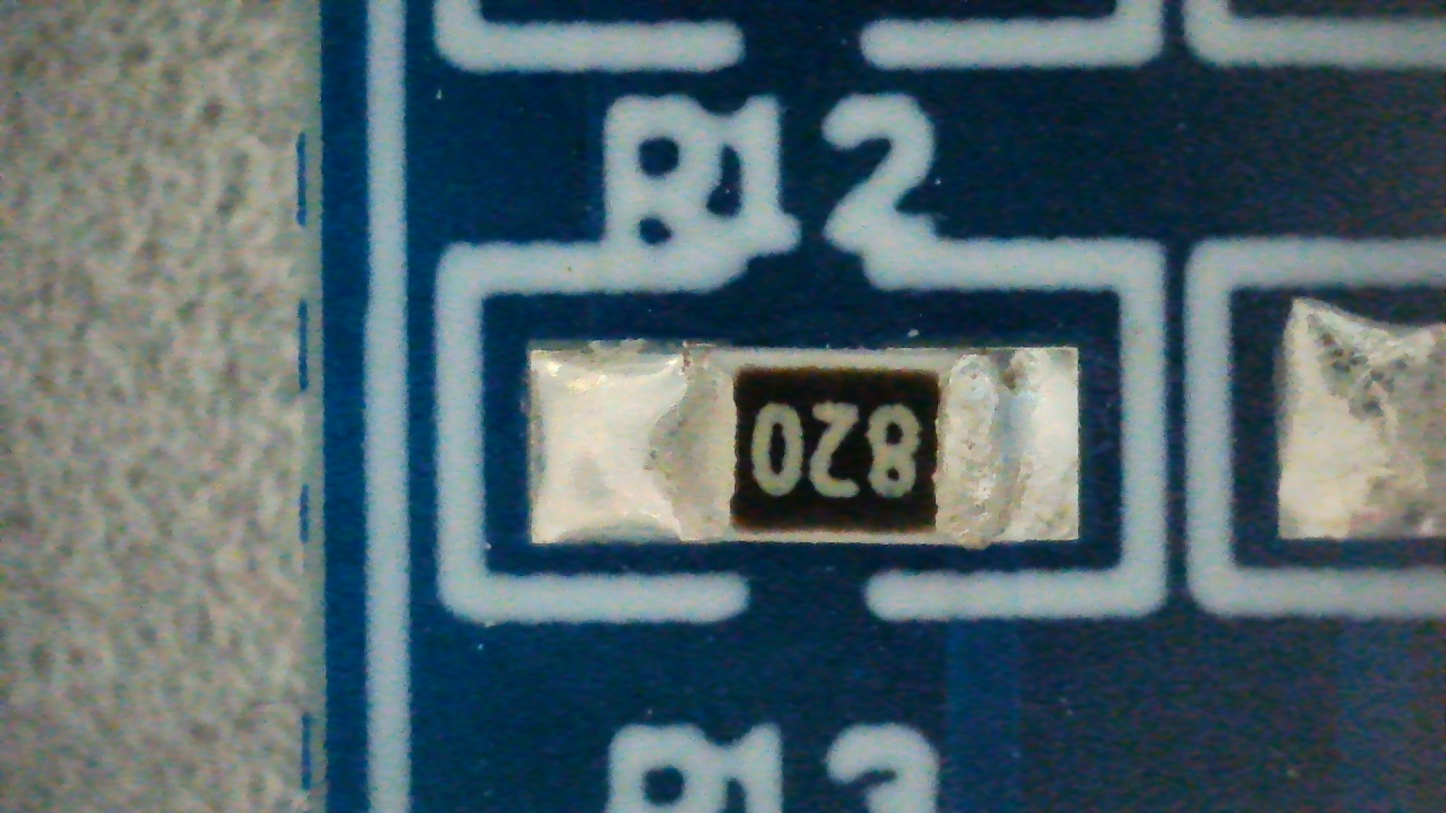OK: (532, 348, 1079, 544)
